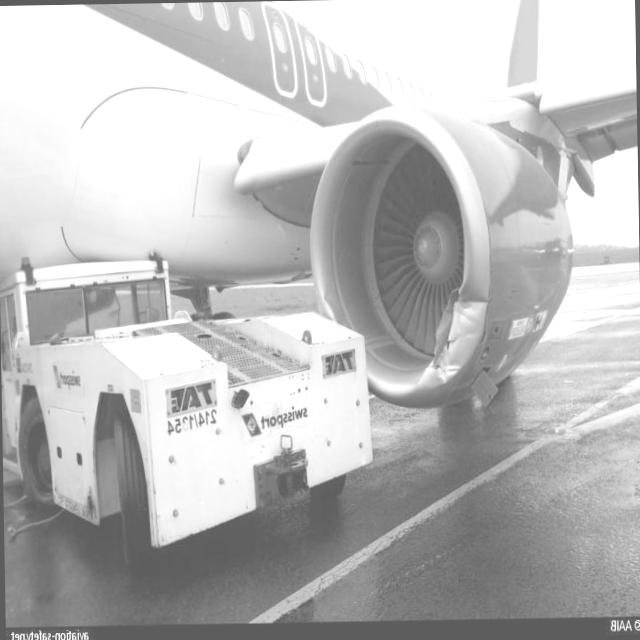crack: (428, 288, 461, 371)
dent: (454, 291, 486, 347), (311, 288, 340, 321), (437, 358, 462, 382)
